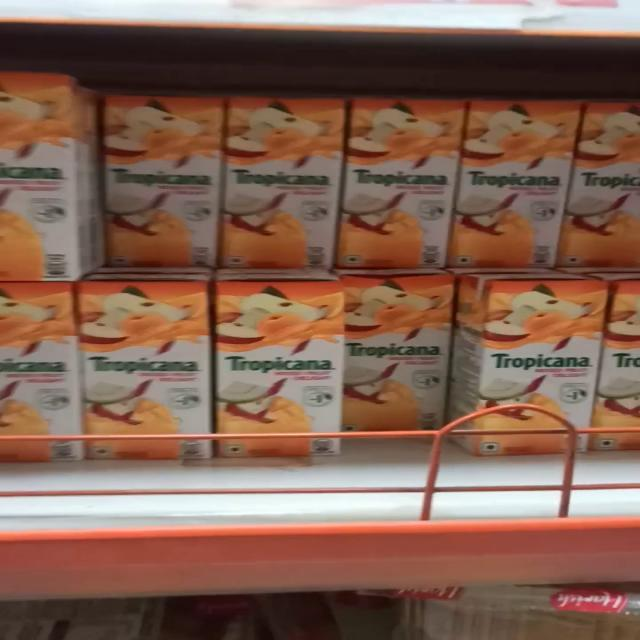Tropicana: (66, 278, 201, 462), (216, 96, 348, 270), (478, 276, 602, 456), (93, 85, 213, 264), (220, 279, 338, 457), (343, 89, 461, 265), (342, 276, 466, 434), (463, 96, 572, 266)
